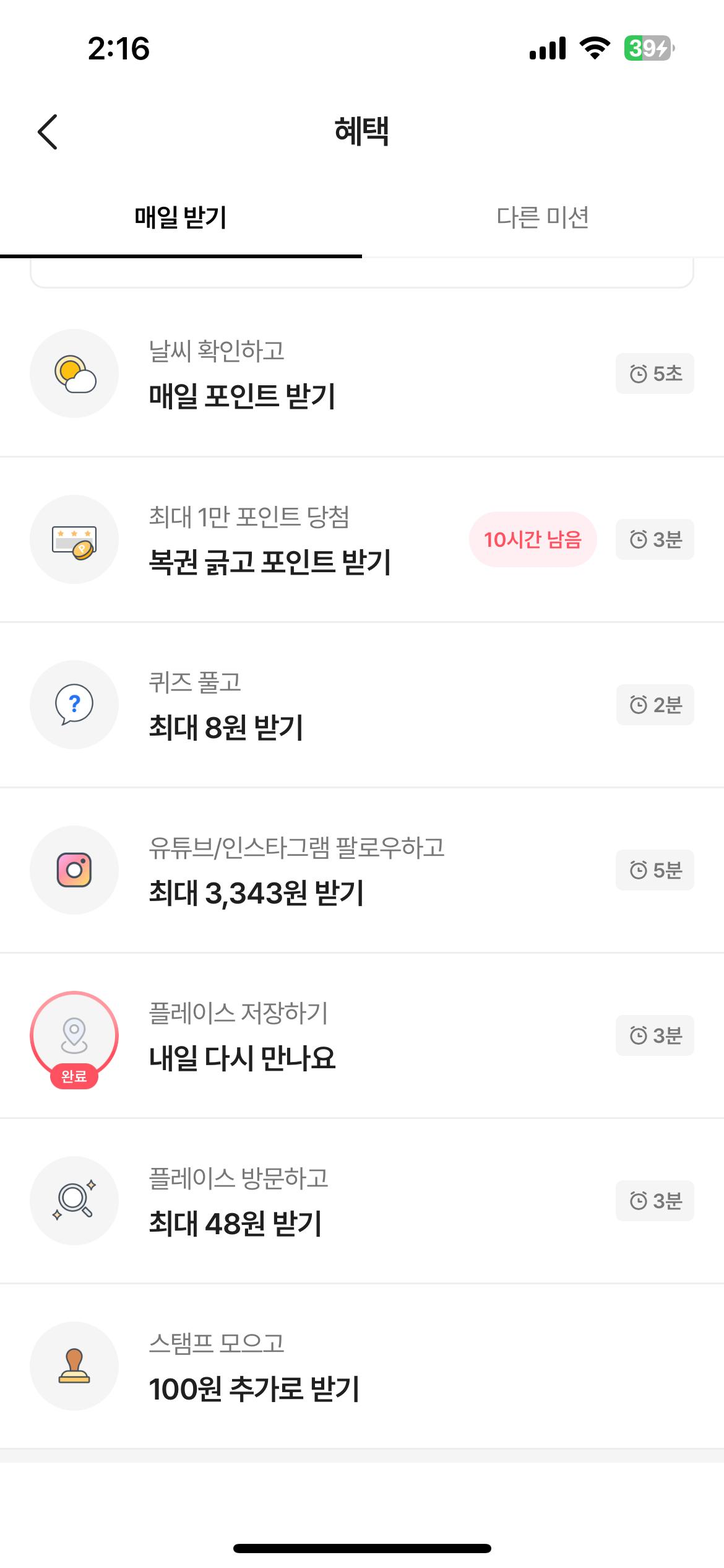button: (6, 184, 347, 258), (388, 178, 710, 239), (27, 107, 97, 159)
